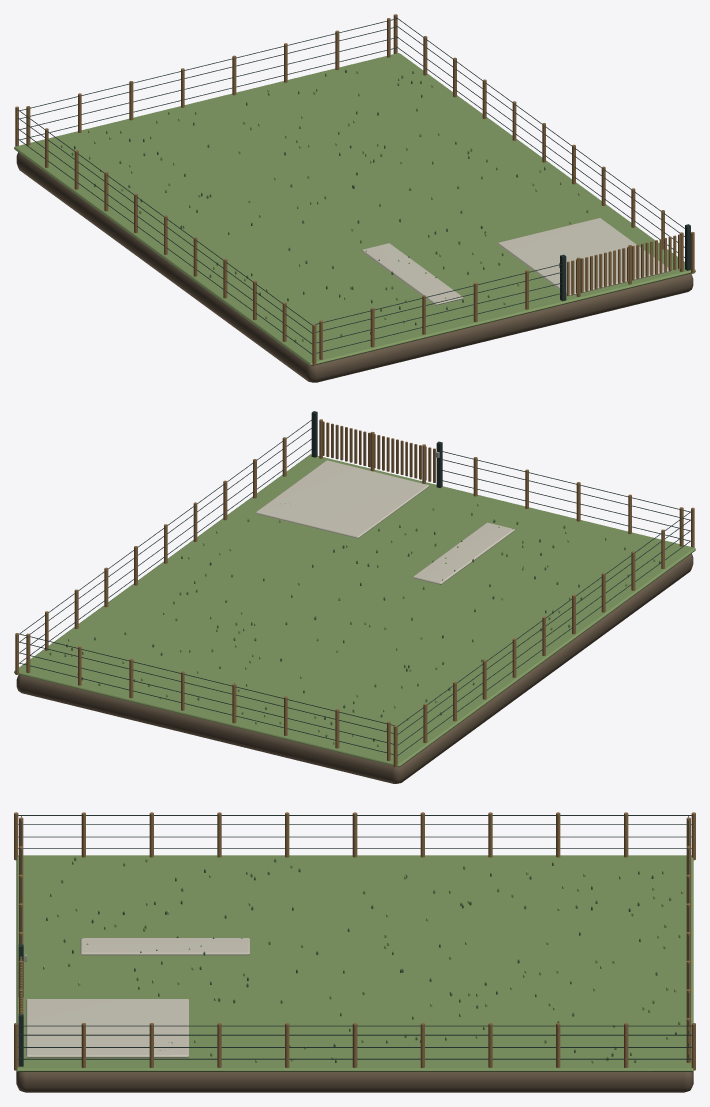
Rendered from plot_base.glb.
The picture shows the model from 3 angles, top to bottom: view 1: azimuth 30°, elevation 25°; view 2: azimuth 150°, elevation 25°; view 3: azimuth 270°, elevation 25°; orthographic projection. The views are drawn at different scales.
Parts seen in each view (by area): view 1: plot_base_Travní sad, plot_base_Hrana půdního profilu.002, plot_base_Dřevo – tmavší lamely.001, plot_base_Štěrkový příjezd, plot_base_Antracitový falcovaný plech.001; view 2: plot_base_Travní sad, plot_base_Hrana půdního profilu.002, plot_base_Štěrkový příjezd, plot_base_Dřevo – tmavší lamely.001, plot_base_Antracitový falcovaný plech.001; view 3: plot_base_Travní sad, plot_base_Hrana půdního profilu.002, plot_base_Štěrkový příjezd, plot_base_Antracitový falcovaný plech.001, plot_base_Dřevo – tmavší lamely.001, plot_base_Listí 3.003.
Part boxes in pixels (x1,y1,x2,y2): plot_base_Travní sad: (14,53,695,365); plot_base_Hrana půdního profilu.002: (16,152,693,382); plot_base_Dřevo – tmavší lamely.001: (15,14,694,365); plot_base_Štěrkový příjezd: (361,218,670,305); plot_base_Antracitový falcovaný plech.001: (18,17,690,354); plot_base_Travní sad: (14,454,695,767); plot_base_Hrana půdního profilu.002: (16,553,693,783); plot_base_Štěrkový příjezd: (256,460,514,584); plot_base_Dřevo – tmavší lamely.001: (15,419,694,767); plot_base_Antracitový falcovaný plech.001: (19,411,691,755); plot_base_Travní sad: (16,855,693,1071); plot_base_Hrana půdního profilu.002: (16,1071,693,1092); plot_base_Štěrkový příjezd: (26,938,249,1057); plot_base_Antracitový falcovaný plech.001: (18,815,691,1066); plot_base_Dřevo – tmavší lamely.001: (14,812,695,1070); plot_base_Listí 3.003: (43,871,683,1063).
Size of the model in its own units: 15 by 2.52 by 20.13.
